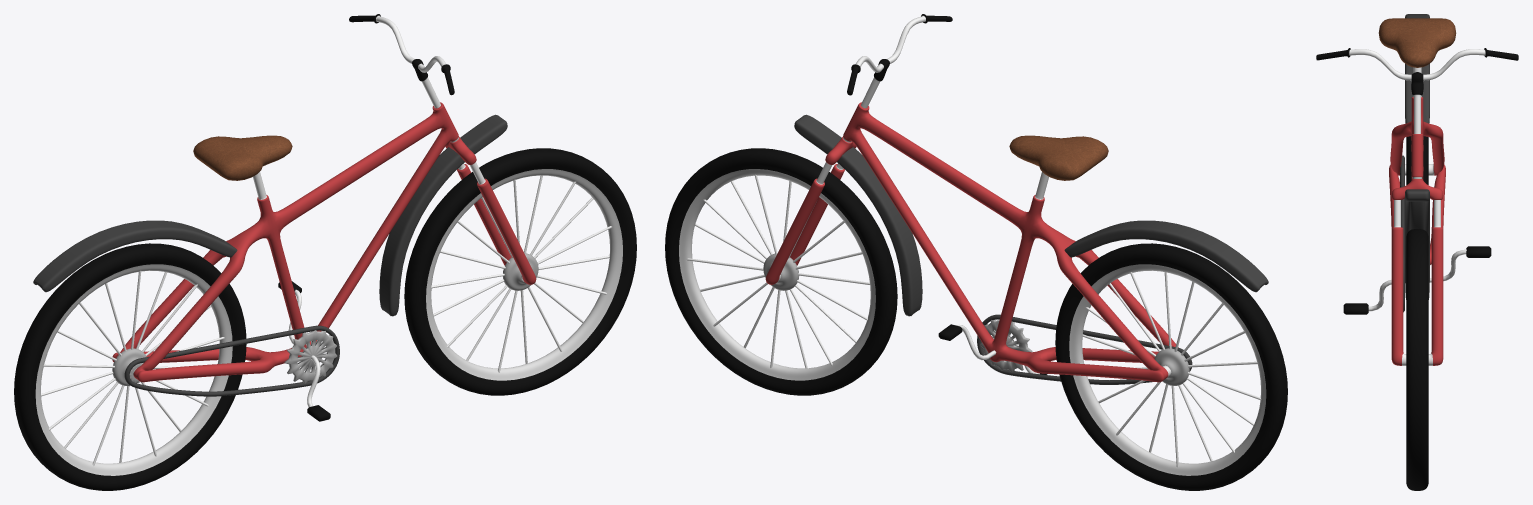
Rendered from city_bike.glb.
The picture shows the model from 3 angles, left to right: view 1: azimuth 30°, elevation 25°; view 2: azimuth 150°, elevation 25°; view 3: azimuth 270°, elevation 25°; orthographic projection.
Parts seen in each view (by area): view 1: bicycle_wheel_forward, bicycle_wheel_back, bicycle_body_main, bicycle_cover_forward, bicycle_cover_back, bicycle_needles_forward, bicycle_needles_back, bicycle_seat, bicycle_body_forward, bicycle_chain, bicycle_gear_main, bicycle_helm (+2 smaller); view 2: bicycle_wheel_forward, bicycle_wheel_back, bicycle_body_main, bicycle_cover_forward, bicycle_cover_back, bicycle_needles_forward, bicycle_needles_back, bicycle_seat, bicycle_body_forward, bicycle_chain, bicycle_helm, bicycle_gear_main (+2 smaller); view 3: bicycle_wheel_forward, bicycle_body_forward, bicycle_body_main, bicycle_seat, bicycle_helm, bicycle_cover_forward, bicycle_pedals, bicycle_cover_back, bicycle_wheel_back, bicycle_chain.
Part boxes in pixels (x1,y1,x2,y2): bicycle_wheel_forward: (404, 148, 636, 395); bicycle_wheel_back: (14, 243, 246, 490); bicycle_body_main: (112, 102, 458, 382); bicycle_cover_forward: (379, 114, 507, 316); bicycle_cover_back: (33, 220, 237, 292); bicycle_needles_forward: (431, 175, 612, 372); bicycle_needles_back: (41, 270, 224, 465); bicycle_seat: (193, 135, 292, 180); bicycle_body_forward: (445, 137, 536, 284); bicycle_chain: (124, 325, 339, 396); bicycle_gear_main: (284, 330, 337, 383); bicycle_helm: (349, 14, 454, 108); bicycle_wheel_forward: (665, 148, 897, 395); bicycle_wheel_back: (1055, 243, 1287, 490); bicycle_body_main: (843, 102, 1178, 382); bicycle_cover_forward: (794, 114, 922, 316); bicycle_cover_back: (1064, 220, 1268, 292); bicycle_needles_forward: (687, 174, 869, 368); bicycle_needles_back: (1082, 272, 1261, 467); bicycle_seat: (1009, 135, 1108, 180); bicycle_body_forward: (765, 137, 856, 284); bicycle_chain: (977, 314, 1192, 384); bicycle_helm: (847, 14, 952, 108); bicycle_gear_main: (979, 320, 1032, 372); bicycle_wheel_forward: (1406, 229, 1428, 490); bicycle_body_forward: (1391, 177, 1443, 365); bicycle_body_main: (1389, 67, 1445, 264); bicycle_seat: (1378, 18, 1456, 67); bicycle_helm: (1316, 48, 1518, 133); bicycle_cover_forward: (1405, 189, 1429, 299); bicycle_pedals: (1343, 246, 1491, 314); bicycle_cover_back: (1405, 14, 1429, 123); bicycle_wheel_back: (1406, 136, 1428, 184); bicycle_chain: (1400, 155, 1404, 312).
Bounding box in the file's own units: 1.75 × 1.02 × 0.4973.
Materials: 8 (1 with a texture image).
